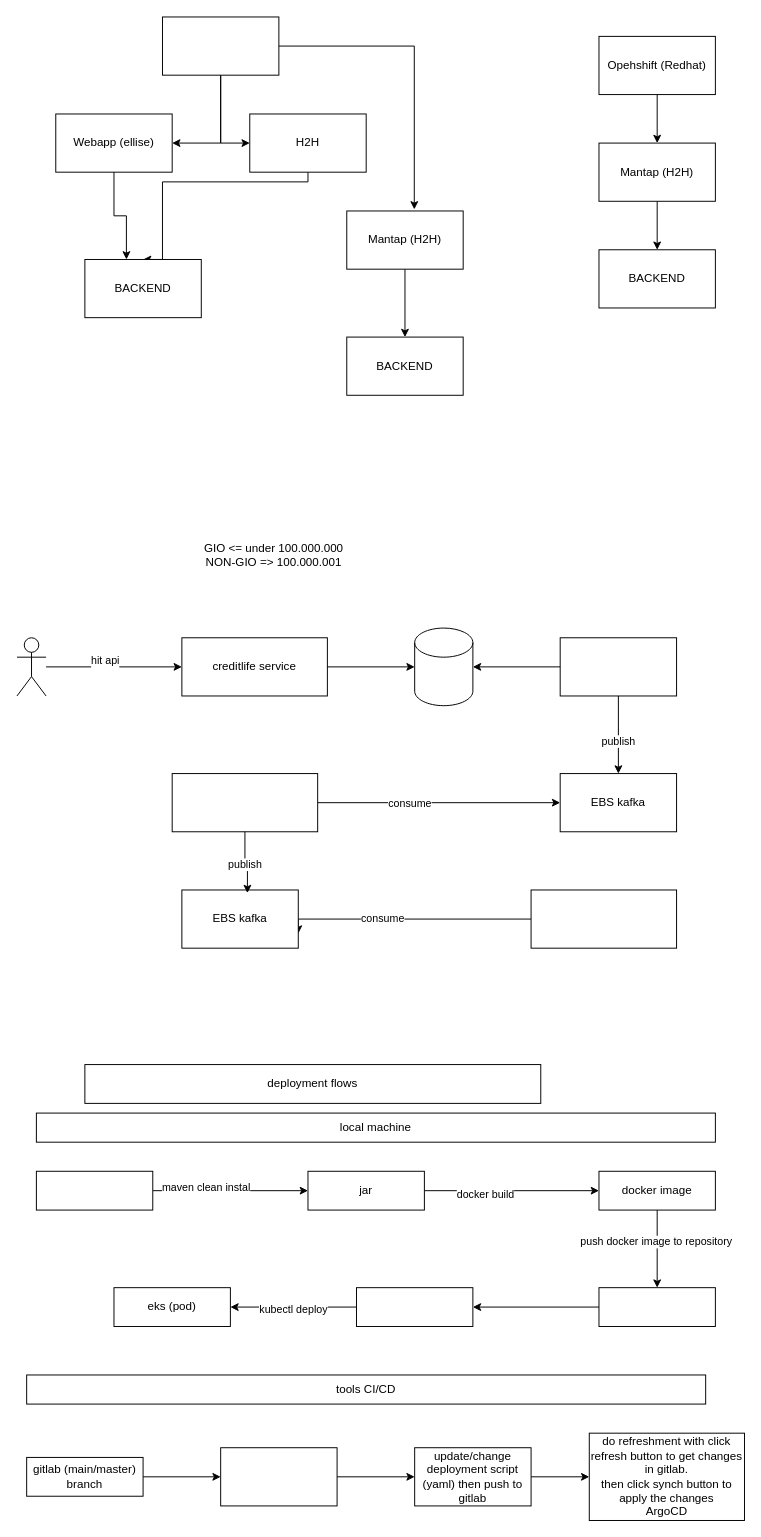
Image size: 761x1537. Some labels were removed from this diagram. The shapes that lost their labels are listed below. From the top down, each one's centre as x and y in pixels, then its label:
At pixel 220 45: "EKS".
At pixel 31 666: "Actor".
At pixel 443 666: "opus".
At pixel 618 666: "attunity".
At pixel 244 802: "crl-attunity-kafka-service".
At pixel 603 918: "crl-letter-service".
At pixel 94 1190: "code".
At pixel 414 1306: "update/change deployment script (yaml)".
At pixel 656 1306: "docker push".
At pixel 278 1476: "jenkins - maven clean install - build docker image push docker image".
